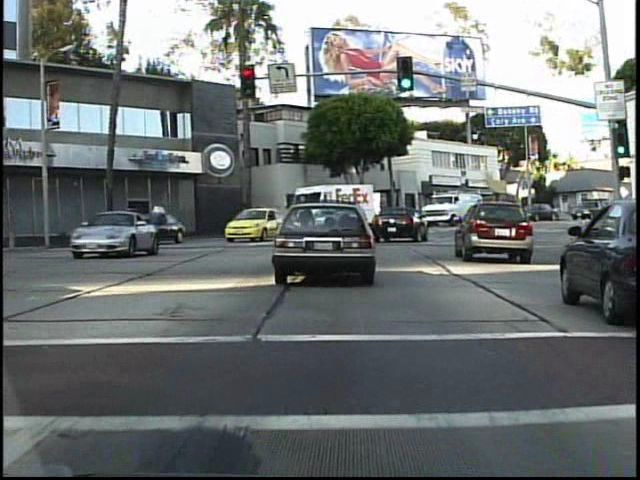person: (249, 202, 266, 232)
